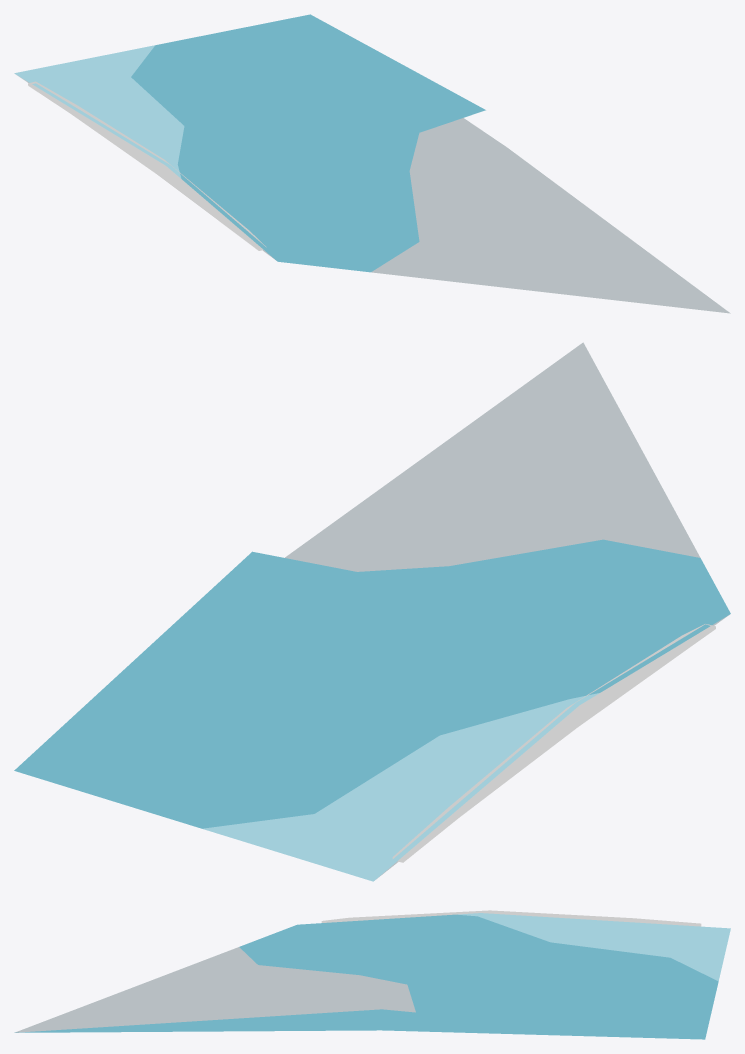
File: su33_surf_elevatorRight.gltf
3 renders of one model, top to bottom at view 1: azimuth 30°, elevation 25°; view 2: azimuth 150°, elevation 25°; view 3: azimuth 270°, elevation 25°, orthographic. The views are drawn at different scales.
Parts seen in each view (by area): view 1: 0_0_#3396bb, 0_2_#bacdd8, 0_1_#73cdec, 0_3_#c6c7c6; view 2: 0_0_#3396bb, 0_2_#bacdd8, 0_1_#73cdec, 0_3_#c6c7c6; view 3: 0_0_#3396bb, 0_2_#bacdd8, 0_1_#73cdec, 0_3_#c6c7c6.
Boxes of the visible parts, bbox=[...] form: 0_0_#3396bb: bbox=[131, 14, 485, 272]; 0_2_#bacdd8: bbox=[17, 75, 730, 313]; 0_1_#73cdec: bbox=[14, 45, 184, 178]; 0_3_#c6c7c6: bbox=[28, 81, 266, 250]; 0_0_#3396bb: bbox=[14, 539, 730, 828]; 0_2_#bacdd8: bbox=[285, 342, 728, 879]; 0_1_#73cdec: bbox=[202, 693, 599, 881]; 0_3_#c6c7c6: bbox=[392, 624, 715, 862]; 0_0_#3396bb: bbox=[15, 914, 718, 1039]; 0_2_#bacdd8: bbox=[14, 947, 415, 1032]; 0_1_#73cdec: bbox=[457, 913, 730, 981]; 0_3_#c6c7c6: bbox=[321, 910, 701, 926].
Size of the model in its own units: 1.29 by 0.1669 by 3.41.
